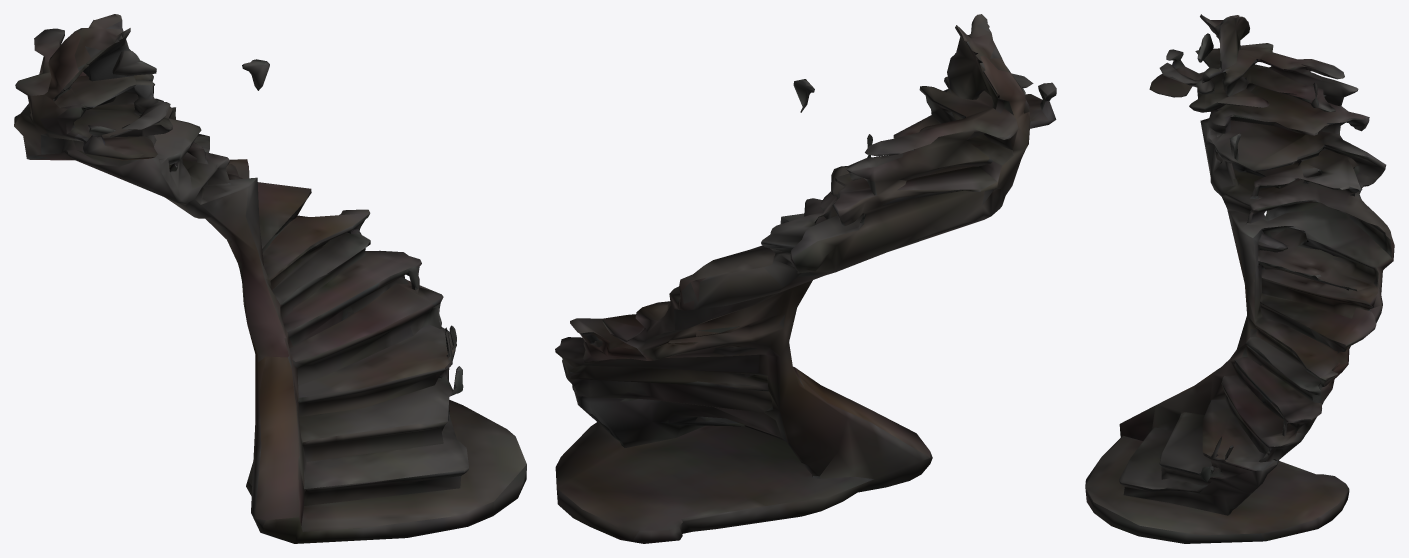
File: chipped-iron-spiral-staircase-v001.glb
The picture shows the model from 3 angles, left to right: view 1: azimuth 30°, elevation 25°; view 2: azimuth 150°, elevation 25°; view 3: azimuth 270°, elevation 25°; orthographic projection. The views are drawn at different scales.
Visible parts, largest first — view 1: chipped-iron-spiral-staircase; view 2: chipped-iron-spiral-staircase; view 3: chipped-iron-spiral-staircase.
Part boxes in pixels (<box>): chipped-iron-spiral-staircase: <box>14,14,526,543</box>; chipped-iron-spiral-staircase: <box>555,14,1056,543</box>; chipped-iron-spiral-staircase: <box>1085,14,1394,543</box>.
Bounding box in the file's own units: 2.22 × 2.4 × 1.72.
Materials: 1 (1 with a texture image).
